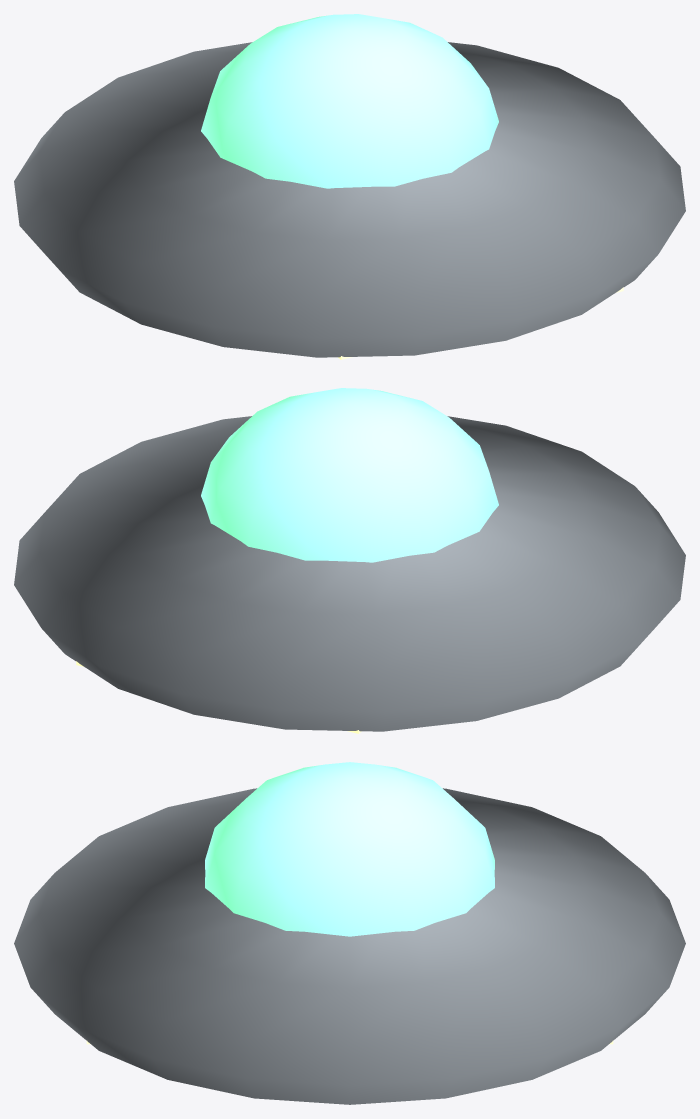
Rendered from enemy_saucer.glb.
3 views of the same model, one above another, from view 1: azimuth 30°, elevation 25°; view 2: azimuth 150°, elevation 25°; view 3: azimuth 270°, elevation 25° (orthographic).
Visible parts, largest first — view 1: enemy_saucer; view 2: enemy_saucer; view 3: enemy_saucer.
Part boxes in pixels (box(x1,y1,x2,y2)): enemy_saucer: box(14, 14, 685, 359); enemy_saucer: box(14, 388, 685, 733); enemy_saucer: box(14, 762, 685, 1104).
Bounding box in the file's own units: 1.7 × 0.68 × 1.7.
